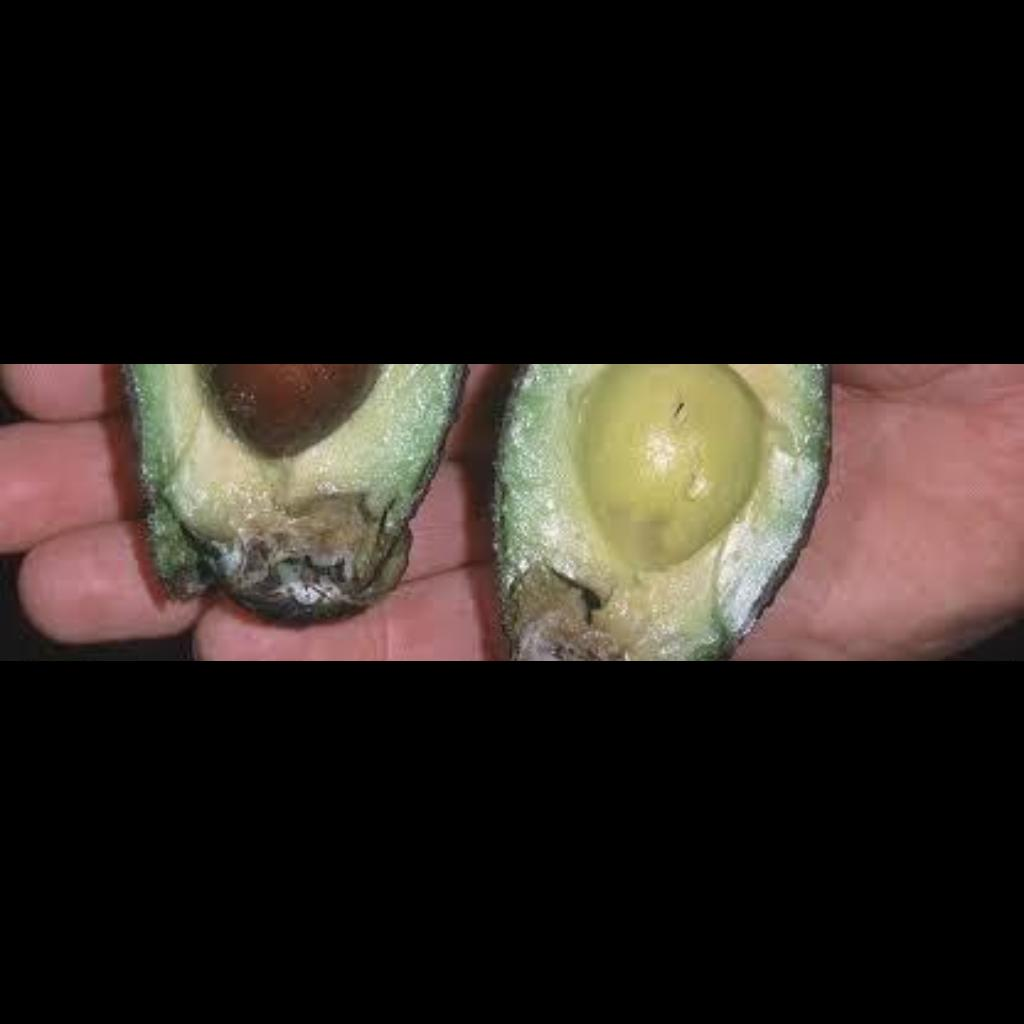antracnosis_fruto: (132, 404, 427, 613), (492, 516, 660, 661)
